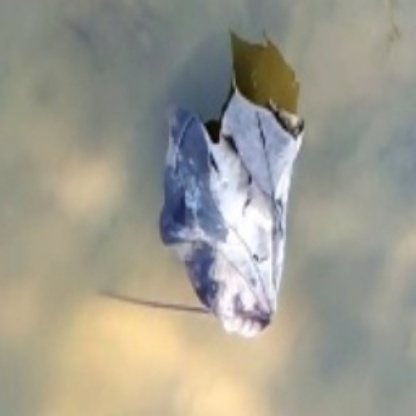leaf: (120, 86, 308, 342)
